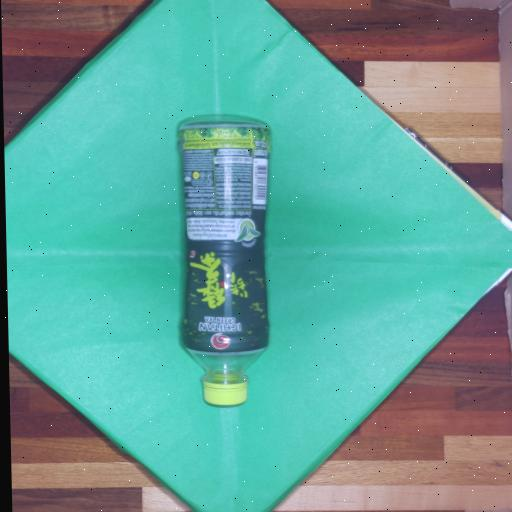bottle: (178, 122, 269, 405)
